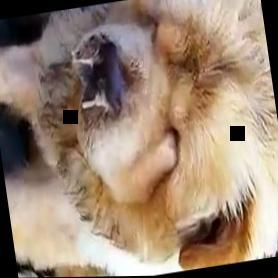nasal_discharge: (69, 39, 126, 119)
